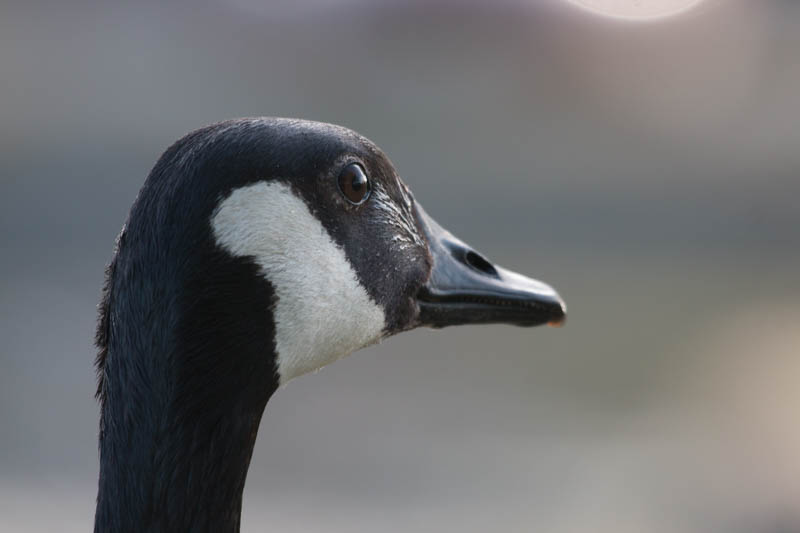goose-head: (98, 116, 565, 390)
